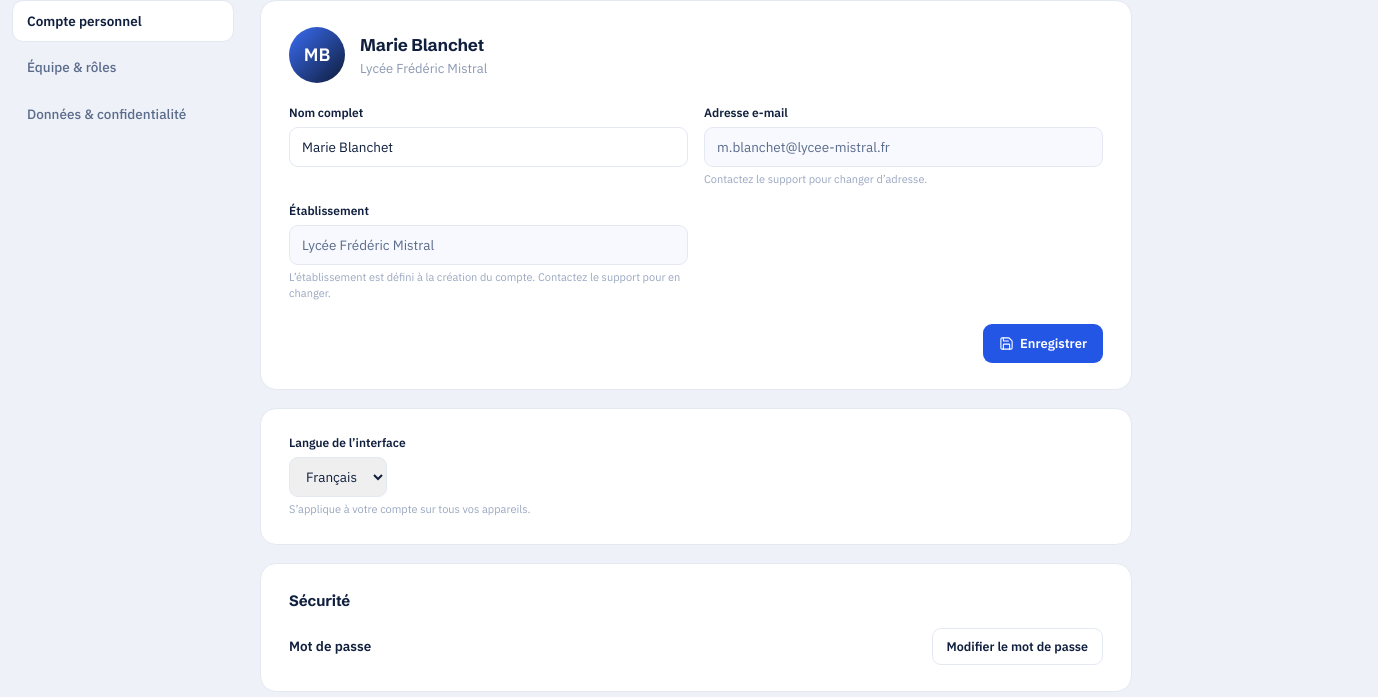
Scenario: SettingsView — Compte › password panel: mismatch is caught client-side
Click the button "Modifier le mot de passe". click: (1017, 646)
box: [932, 628, 1103, 665]
(page scrolled)
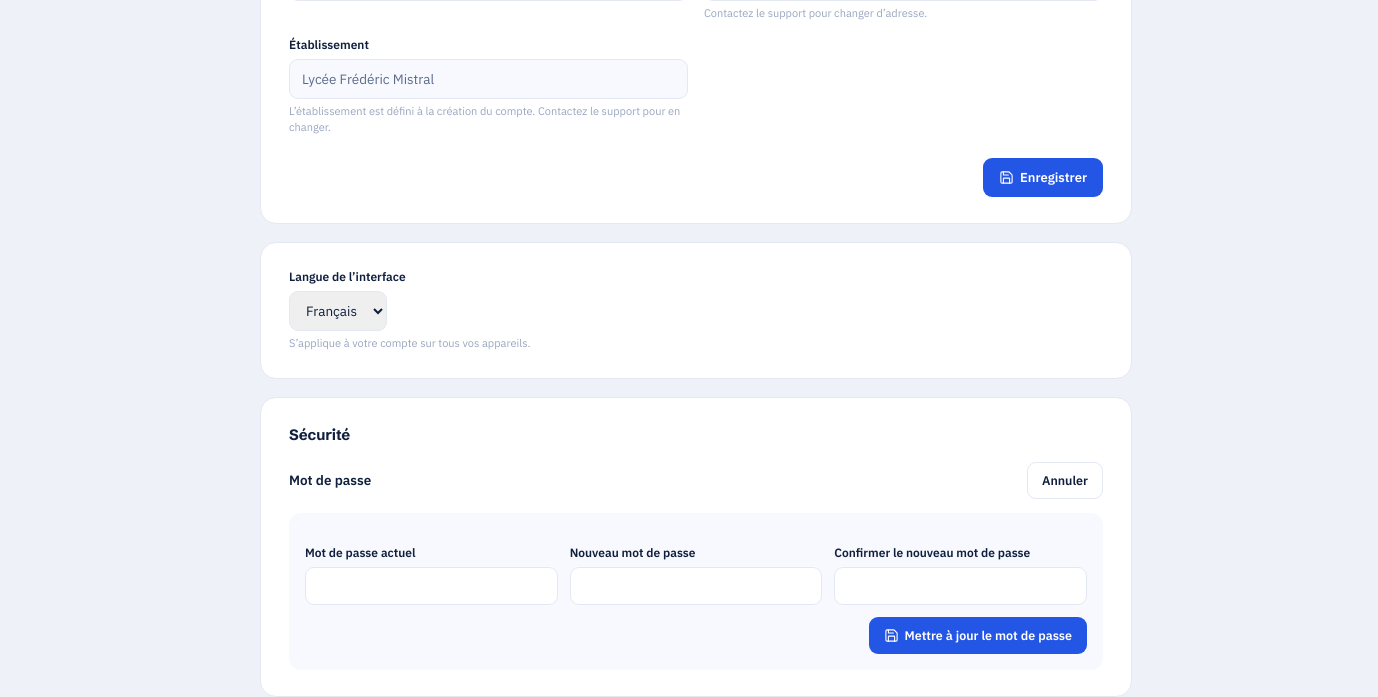
Type "oldpassword" into the password field labelled "Mot de passe actuel". click: (431, 586)
box: [305, 567, 558, 605]
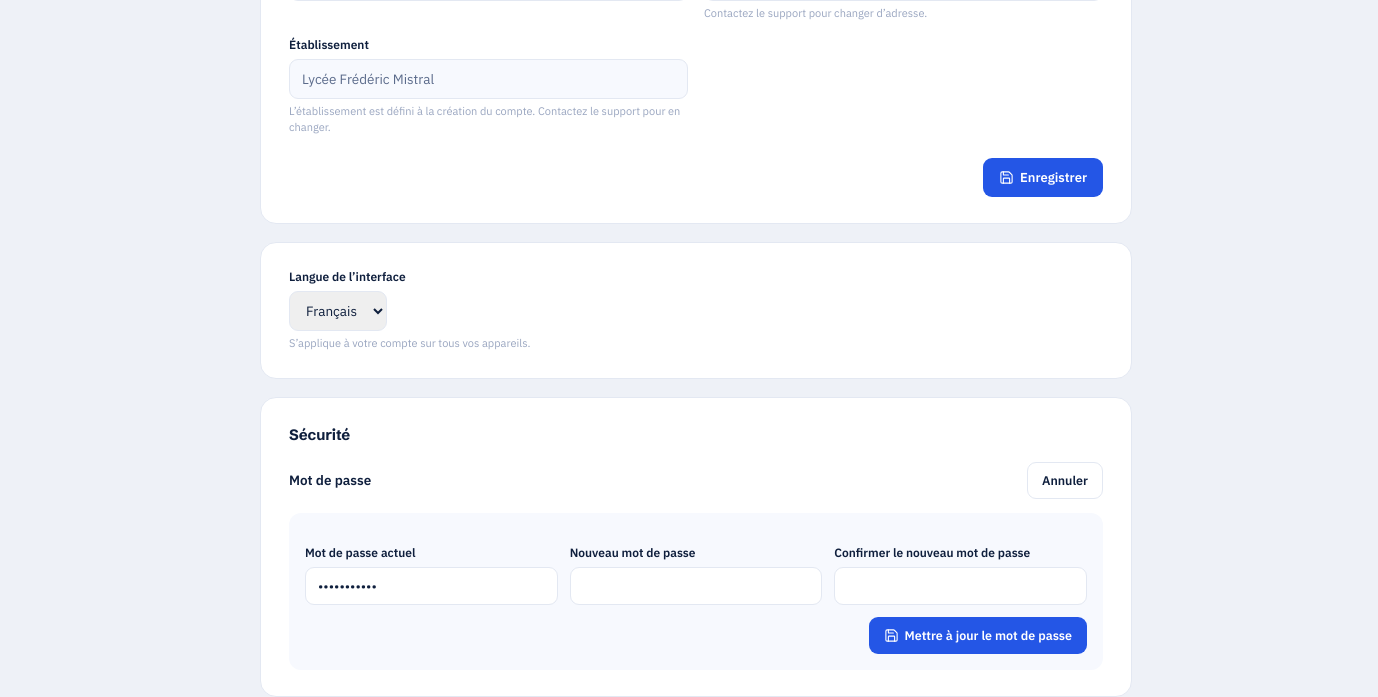
Type "newpassword" into the password field labelled "Nouveau mot de passe". click: (696, 586)
box: [570, 567, 822, 605]
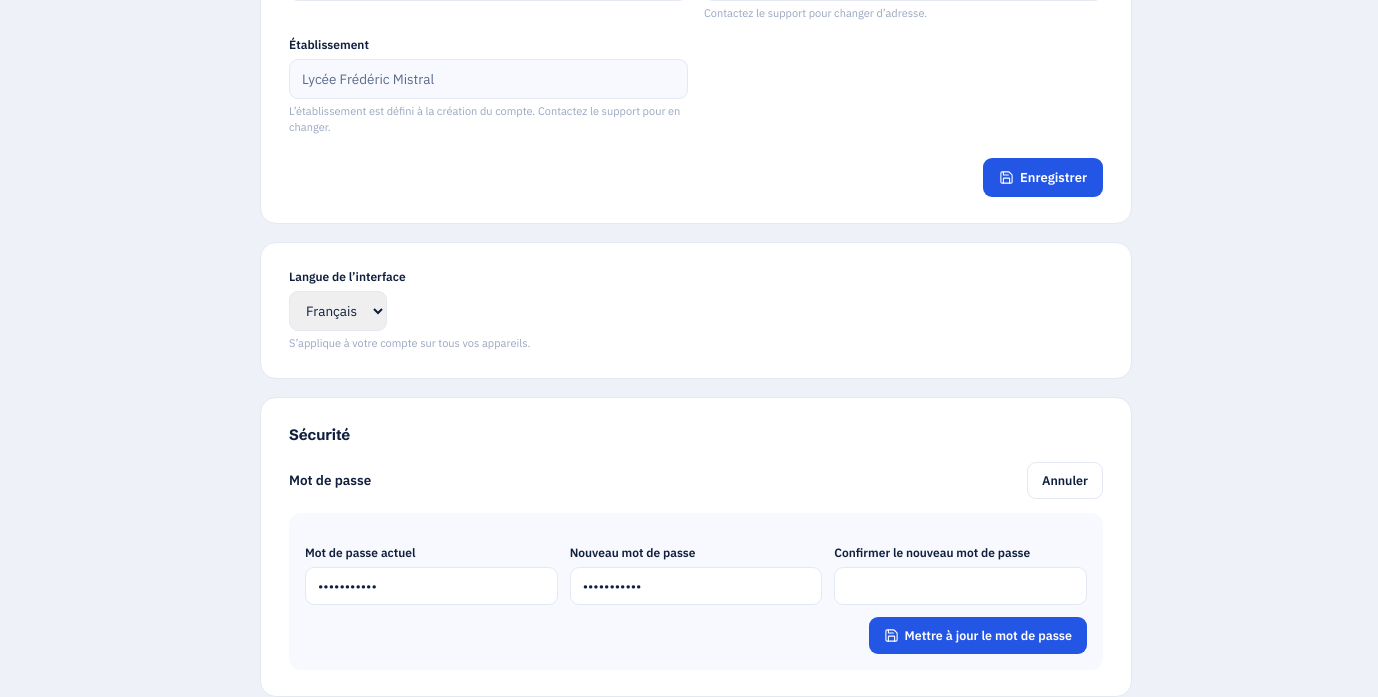
Type "other" into the password field labelled "Confirmer le nouveau mot de passe". click: (961, 586)
box: [834, 567, 1087, 605]
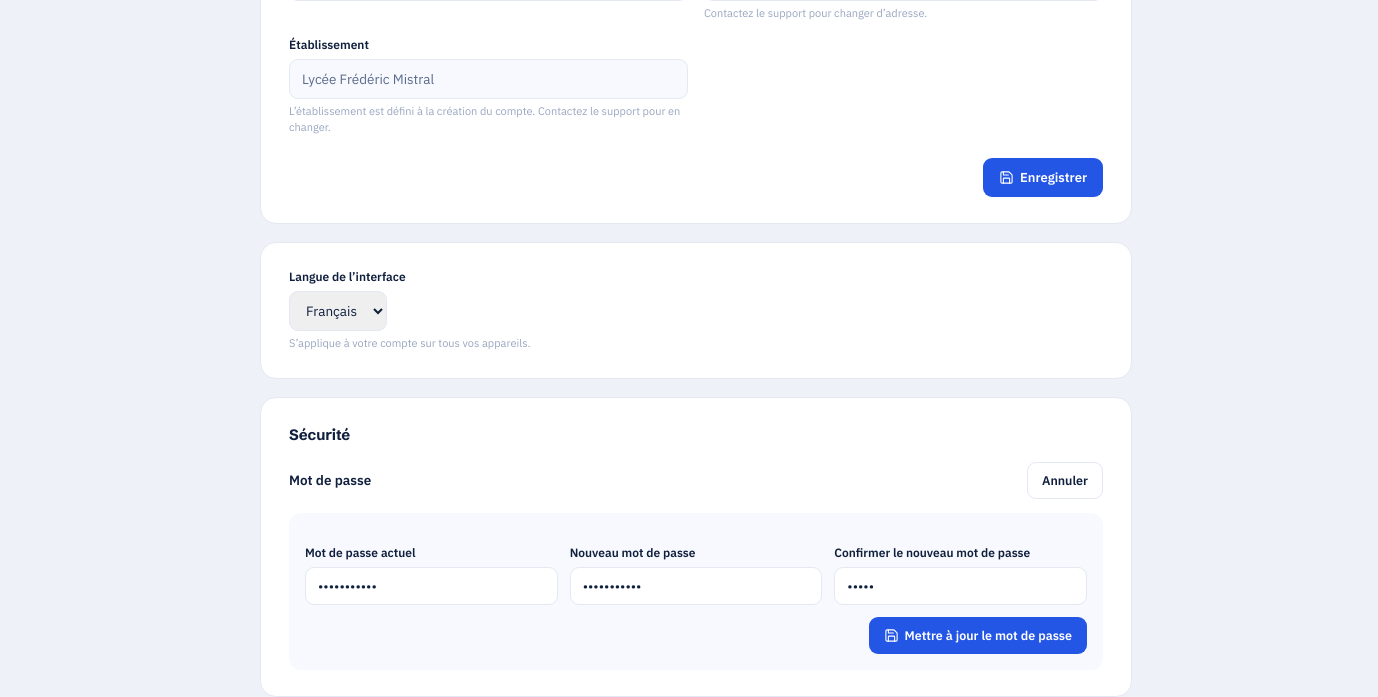
Click the button "Mettre à jour le mot de passe". click: (978, 635)
box: [868, 617, 1087, 654]
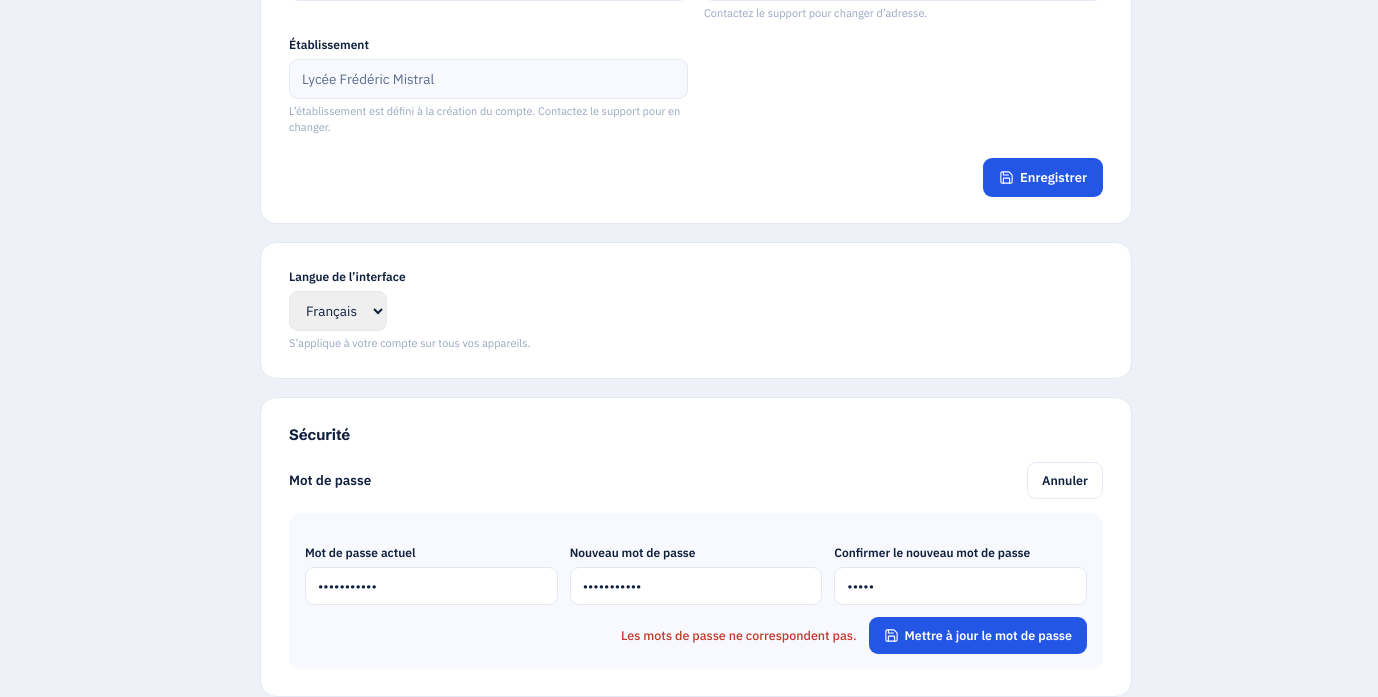
Result: the text "Les mots de passe ne correspondent pas." is shown at [621, 626, 857, 645]
